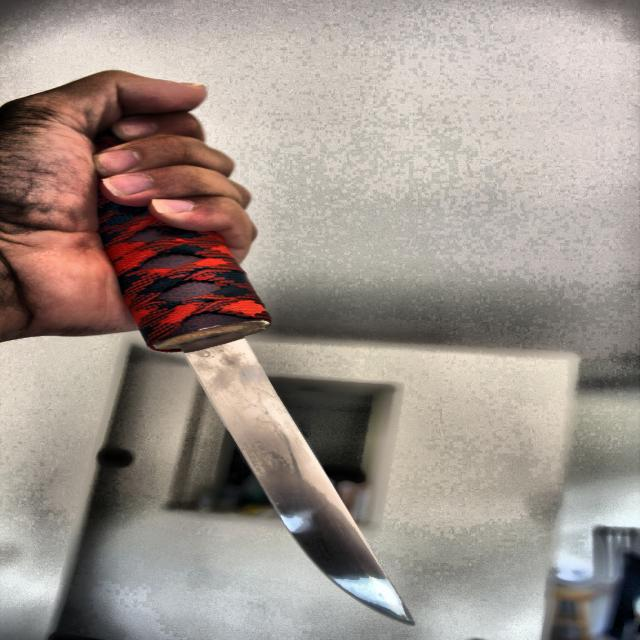knife: (94, 129, 414, 623)
